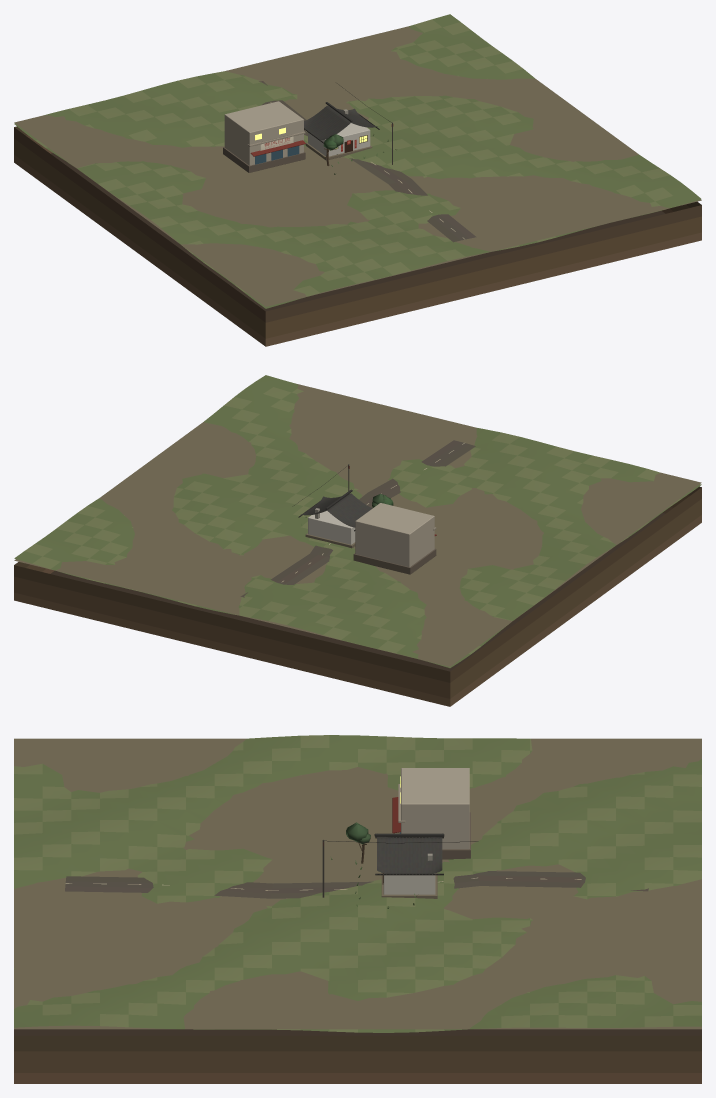
Rendered from test_zone.glb.
3 renders of one model, top to bottom at view 1: azimuth 30°, elevation 25°; view 2: azimuth 150°, elevation 25°; view 3: azimuth 270°, elevation 25°, orthographic. The views are drawn at different scales.
Visible parts, largest first — view 1: Base, Terrain, Shop, Road, HouseRoof, HouseWall, ShopBase; view 2: Base, Terrain, Shop, Road, HouseRoof, HouseWall, ShopBase; view 3: Base, Terrain, Road, Shop, HouseRoof, HouseWall.
Boxes of the visible parts, bbox=[...] form: Base: bbox=[14, 26, 701, 346]; Terrain: bbox=[14, 14, 701, 308]; Shop: bbox=[224, 101, 303, 165]; Road: bbox=[259, 81, 476, 242]; HouseRoof: bbox=[304, 105, 377, 139]; HouseWall: bbox=[308, 123, 370, 156]; ShopBase: bbox=[223, 147, 305, 172]; Base: bbox=[14, 384, 701, 706]; Terrain: bbox=[14, 375, 701, 667]; Shop: bbox=[355, 503, 434, 567]; Road: bbox=[240, 440, 475, 597]; HouseRoof: bbox=[301, 493, 372, 527]; HouseWall: bbox=[308, 511, 355, 544]; ShopBase: bbox=[353, 548, 436, 574]; Base: bbox=[14, 738, 701, 1083]; Terrain: bbox=[14, 735, 701, 1032]; Road: bbox=[65, 871, 648, 898]; Shop: bbox=[401, 768, 469, 849]; HouseRoof: bbox=[377, 836, 442, 873]; HouseWall: bbox=[383, 873, 435, 894].
Bounding box in the file's own units: 80 × 14.5 × 80.
Materials: 5 (2 with a texture image).
